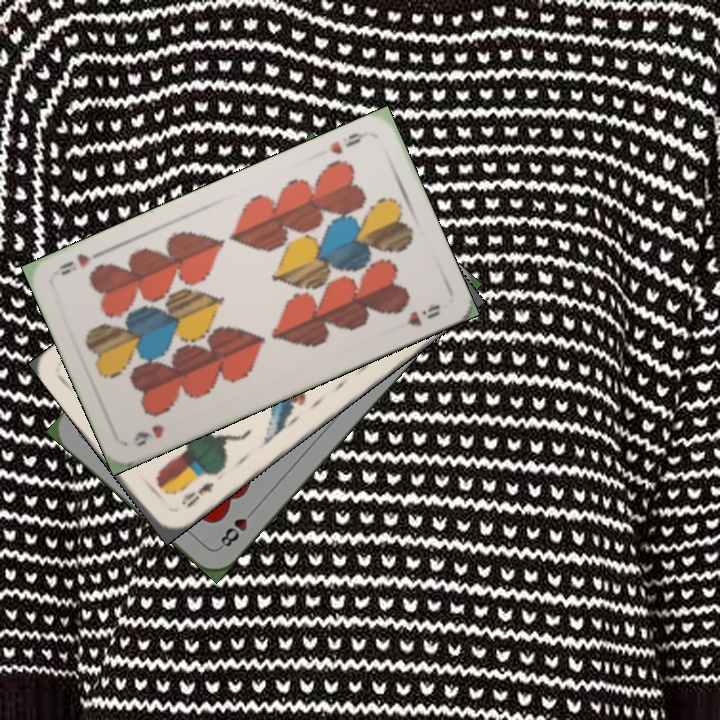EO: (177, 478, 217, 510)
H8: (215, 503, 259, 552)
H9: (326, 127, 371, 157), (129, 420, 167, 449)
